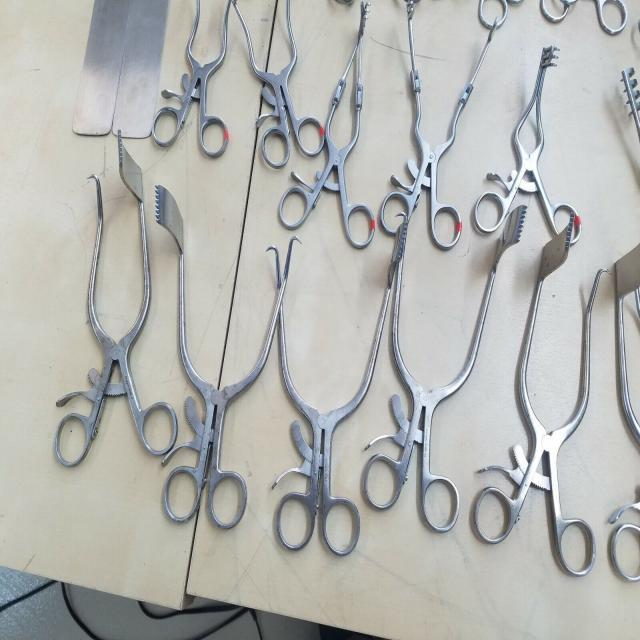Self Retractor: (466, 232, 622, 587), (360, 206, 534, 524), (142, 220, 308, 534), (266, 212, 414, 562), (53, 134, 167, 464), (383, 23, 515, 246), (471, 47, 602, 257), (282, 11, 379, 252), (231, 4, 321, 168), (150, 4, 237, 158)
